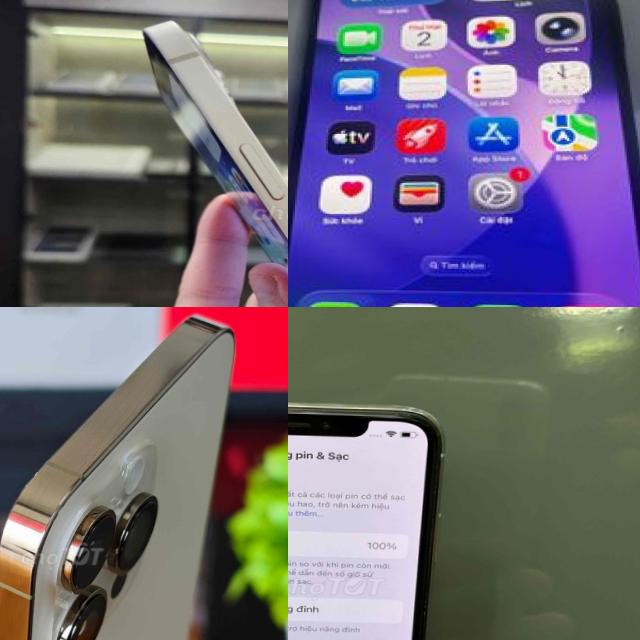gen_12_13: (122, 13, 288, 307)
gen_14: (0, 314, 250, 640)
gen_15: (288, 0, 640, 307)
gen_x_xs: (288, 391, 451, 640)
